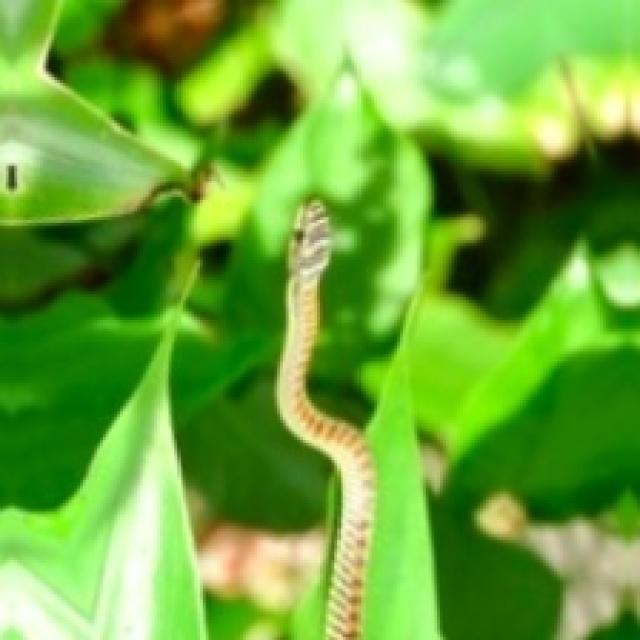paradise tree snake: (277, 200, 374, 637)
